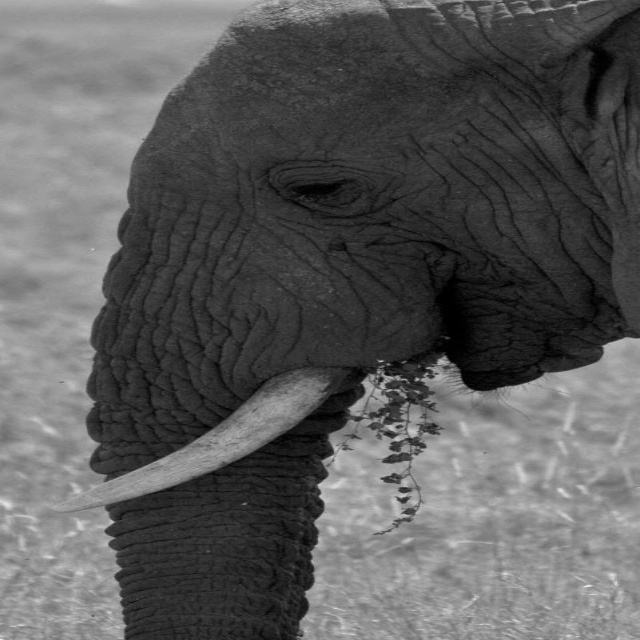Elephant: (53, 0, 631, 596)
